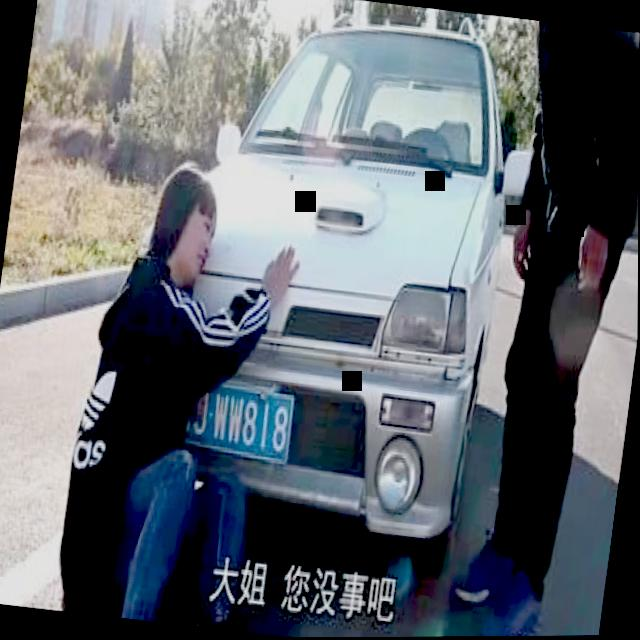Fall-Detected: (34, 150, 325, 629)
